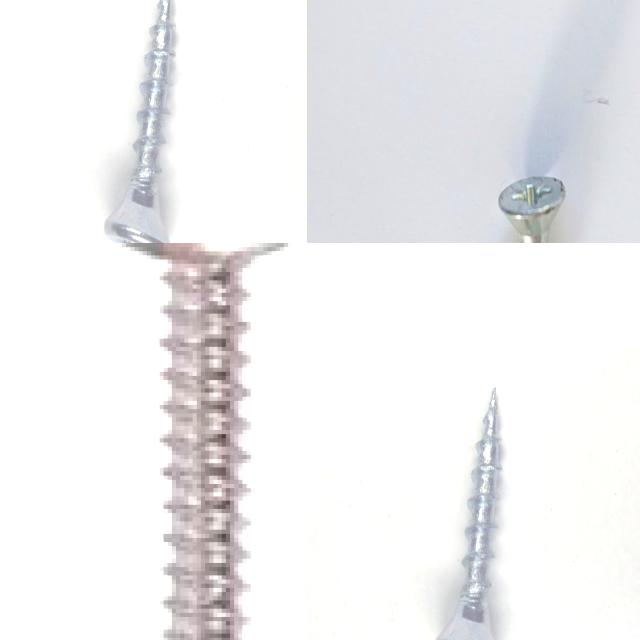Screw: (123, 243, 305, 640), (104, 0, 173, 243), (436, 387, 500, 640), (498, 176, 565, 243)
